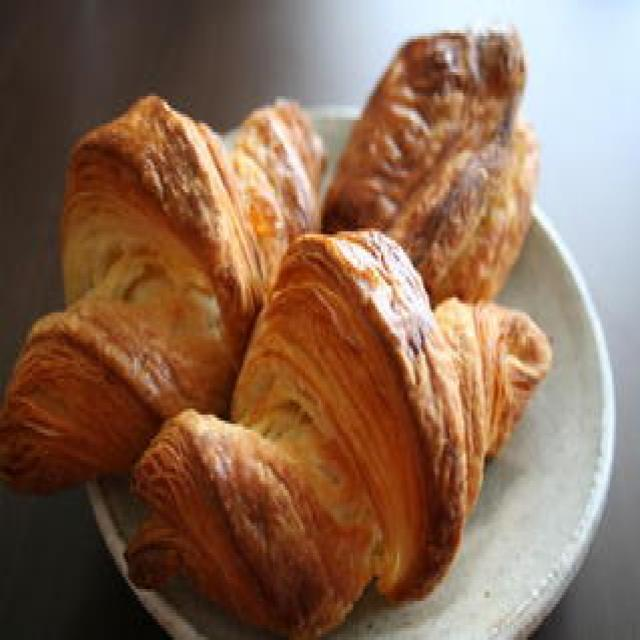Croissant: (142, 205, 548, 621)
